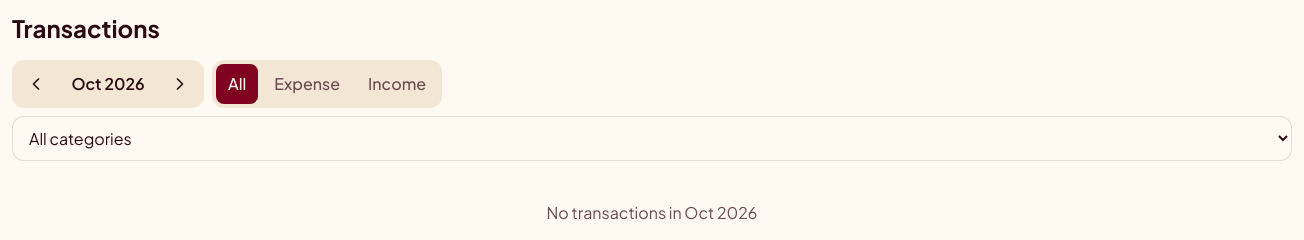
Test case: TransactionsPage › explains an empty result for the chosen filters
Check: the text "No transactions in Oct 2026" is shown, box [547,202,757,223]
Step 1. Click the radio button labelled "Income" → (397, 84), box [356,64,438,104]
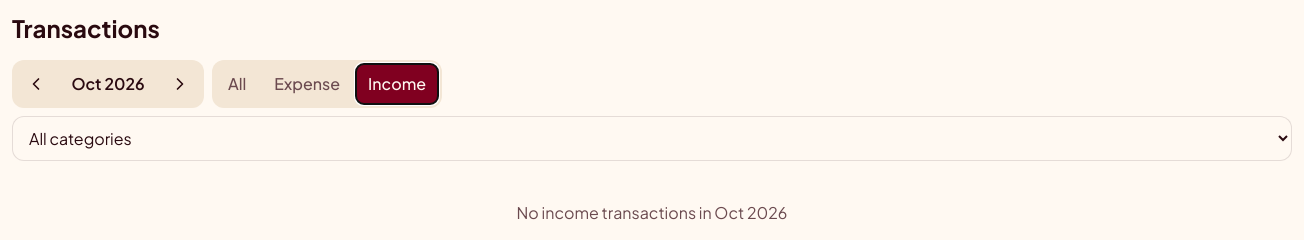
Check: the text "No income transactions in Oct 2026" is shown, box [517,202,787,223]
Step 2. Select "Salary" in the dropdown named "Category filter" → (652, 138), box [12,116,1292,161]
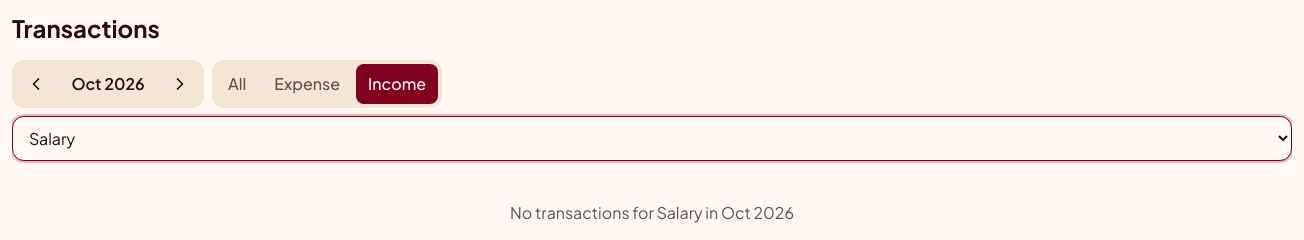
Check: the text "No transactions for Salary in Oct 2026" is shown, box [510,202,794,223]
